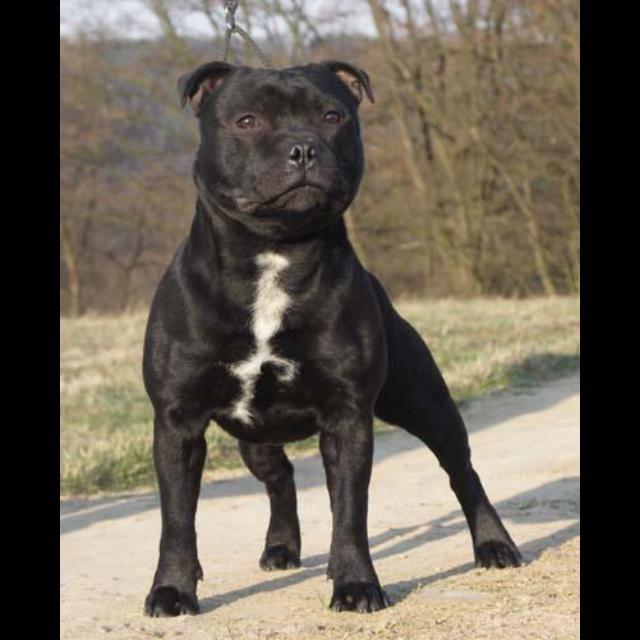staffford: (140, 58, 524, 619)
